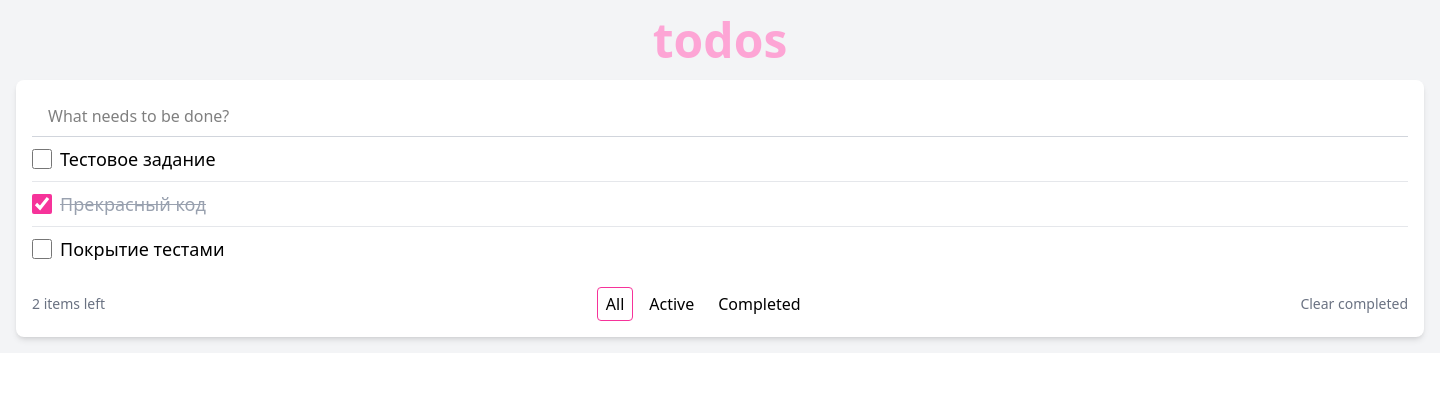
ToDo App › adds a new todo
Вводим текст и нажимаем Enter
Type "Новая задача" into the field with placeholder "What needs to be done?" at (720, 116), box [32, 96, 1408, 137]
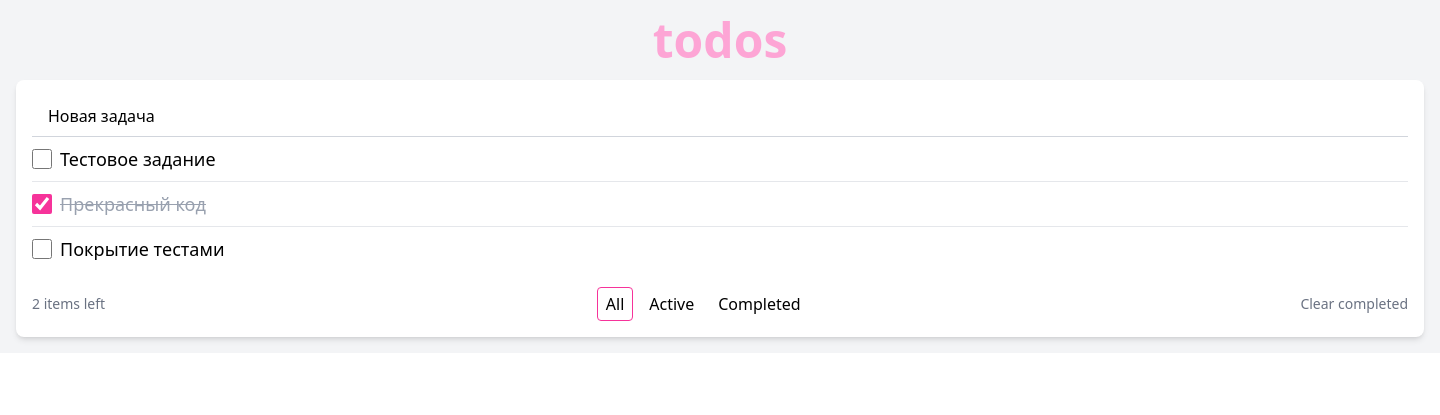
Press Enter in the field with placeholder "What needs to be done?", box [32, 96, 1408, 137]
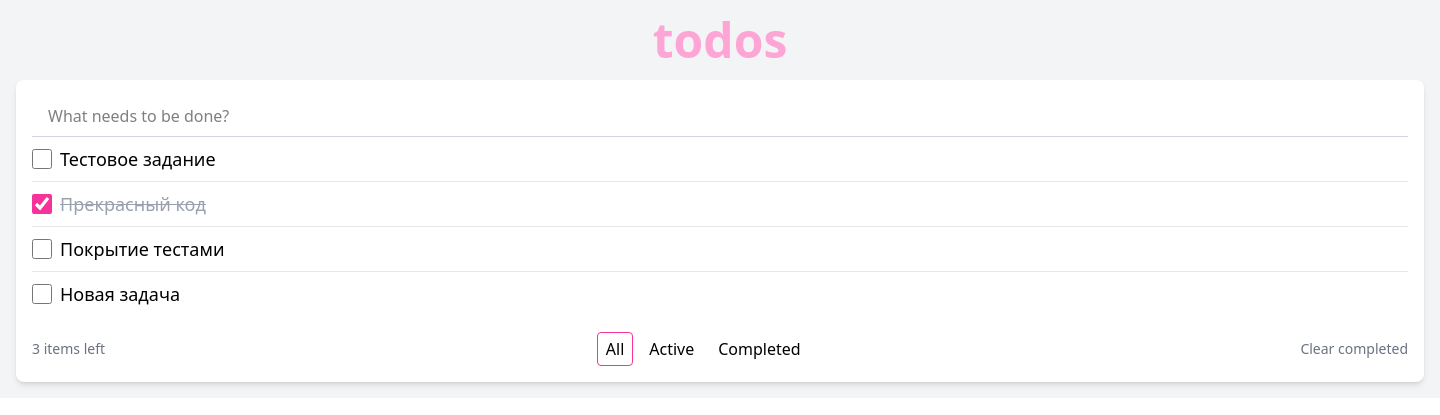
Expected: the text "Новая задача" is shown, [60, 280, 180, 308]
